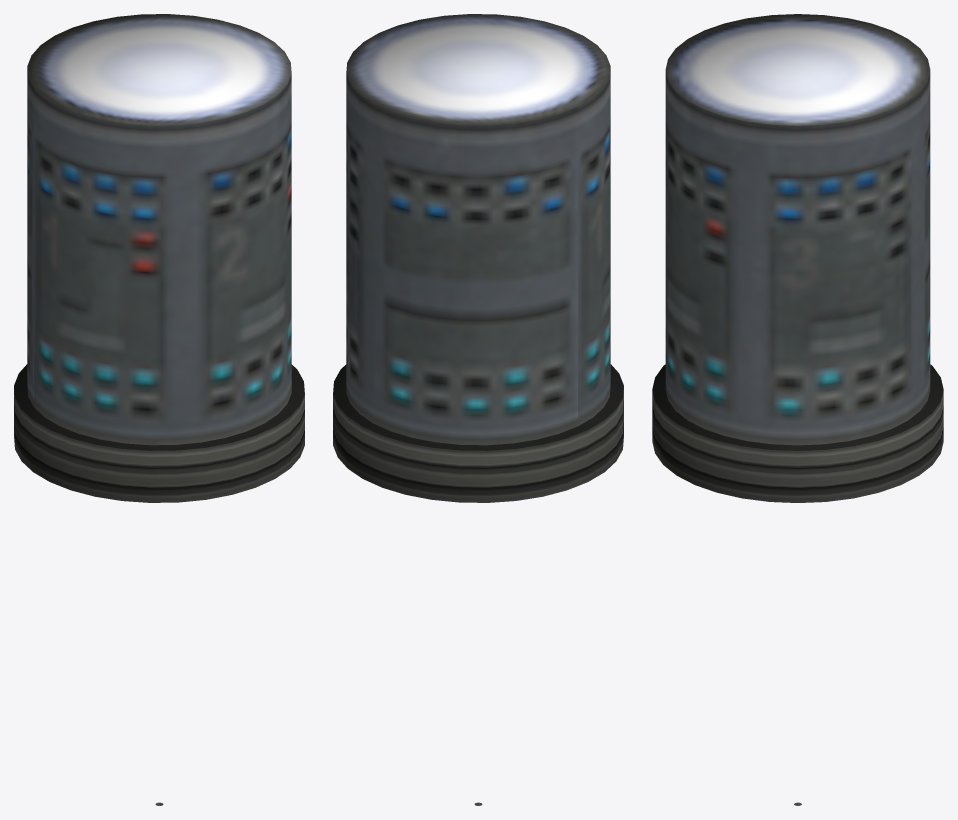
Rendered from cpumesa.fbx.
The picture shows the model from 3 angles, left to right: view 1: azimuth 30°, elevation 25°; view 2: azimuth 150°, elevation 25°; view 3: azimuth 270°, elevation 25°; orthographic projection.
Visible parts, largest first — view 1: Cylinder.001; view 2: Cylinder.001; view 3: Cylinder.001.
Part boxes in pixels (x1,y1,x2,y2): Cylinder.001: (14, 14, 304, 805); Cylinder.001: (333, 14, 623, 805); Cylinder.001: (652, 14, 943, 805).
Bounding box in the file's own units: 0.7598 × 2.11 × 0.7598.
